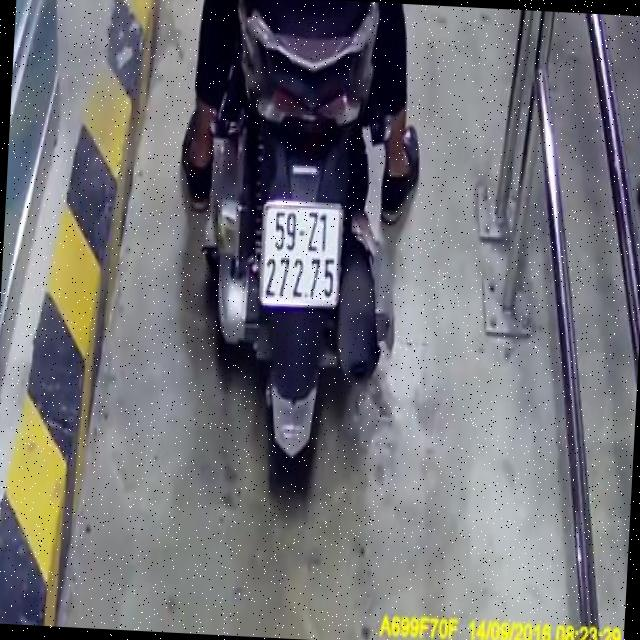license_plate: (257, 198, 347, 318)
